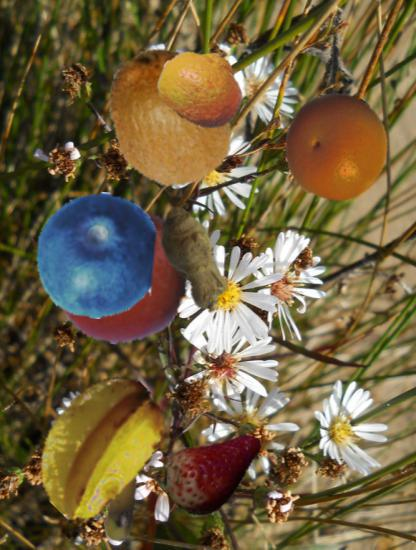Banana: (75, 444, 174, 543)
Carambula: (23, 370, 172, 519)
Ginger: (137, 203, 251, 317)
Grapefruit: (282, 93, 390, 201)
Huckleberry: (33, 192, 160, 319)
Kiwi: (95, 45, 240, 190)
Mandarine: (158, 44, 247, 133)
Pomegranate: (52, 205, 192, 345)
Strawberry: (160, 414, 266, 520)
